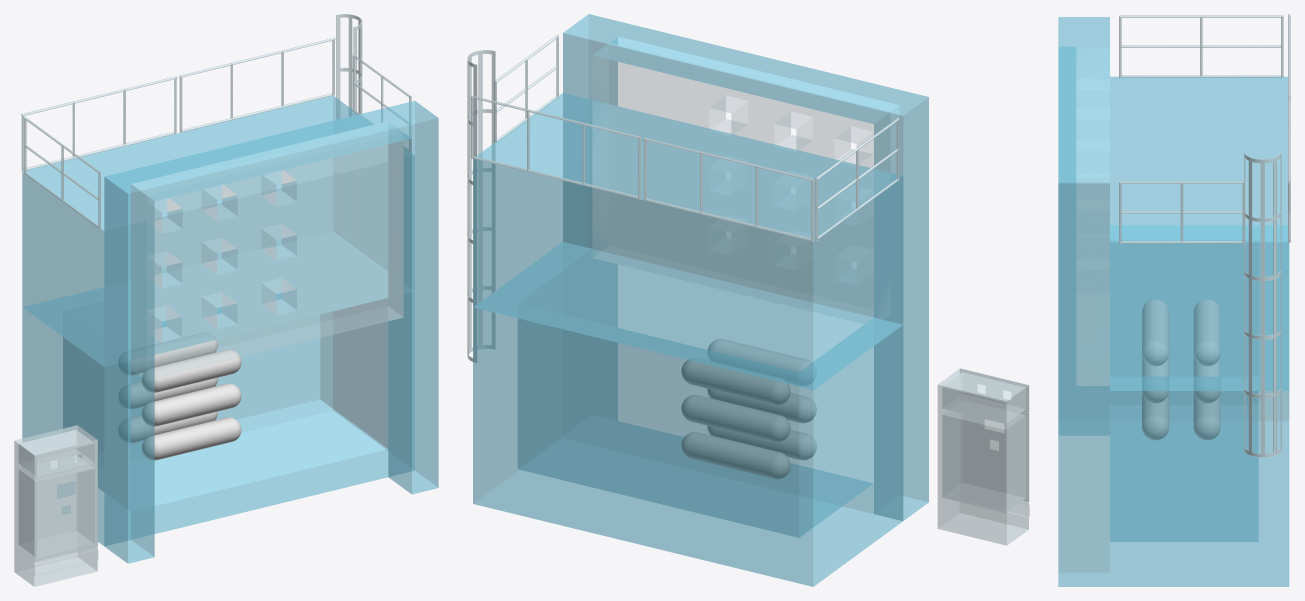
The picture shows the model from 3 angles, left to right: view 1: azimuth 30°, elevation 25°; view 2: azimuth 150°, elevation 25°; view 3: azimuth 270°, elevation 25°; orthographic projection. The views are drawn at different scales.
Visible parts, largest first — view 1: 炉 - 炉体上-1, 炉 - 炉体下-1, 炉 - 炉门框-1, 炉 - 炉门-1, 配电柜 - 配电柜体-1, 配电柜 - 配电柜门中-1, 炉 - 瓶-6, 炉 - 瓶-5, 炉 - 瓶-4, 炉 - 瓶-7, 炉 - 爬梯护栏-1, 炉 - 栏杆2-2 (+6 smaller); view 2: 炉 - 炉体下-1, 炉 - 炉体上-1, 炉 - 炉门-1, 炉 - 炉门框-1, 配电柜 - 配电柜体-1, 炉 - 爬梯护栏-1, 配电柜 - 配电柜门中-1, 炉 - 瓶-9, 炉 - 瓶-8, 炉 - 瓶-7, 炉 - 栏杆2-1, 炉 - 栏杆2-2 (+6 smaller); view 3: 炉 - 炉体下-1, 炉 - 炉体上-1, 炉 - 炉门框-1, 炉 - 炉门-1, 炉 - 爬梯护栏-1, 炉 - 栏杆3-1, 炉 - 栏杆-1, 炉 - 瓶-4, 炉 - 瓶-7, 炉 - 瓶-6, 炉 - 瓶-9, 炉 - 瓶-5 (+2 smaller).
Part boxes in pixels (x1=…): 炉 - 炉体上-1: x1=22, y1=95, x2=414, y2=366; 炉 - 炉体下-1: x1=22, y1=244, x2=414, y2=545; 炉 - 炉门框-1: x1=104, y1=101, x2=438, y2=563; 炉 - 炉门-1: x1=131, y1=122, x2=403, y2=379; 配电柜 - 配电柜体-1: x1=14, y1=425, x2=98, y2=586; 配电柜 - 配电柜门中-1: x1=34, y1=465, x2=97, y2=561; 炉 - 瓶-6: x1=142, y1=417, x2=241, y2=460; 炉 - 瓶-5: x1=142, y1=383, x2=241, y2=426; 炉 - 瓶-4: x1=142, y1=349, x2=241, y2=392; 炉 - 瓶-7: x1=131, y1=332, x2=217, y2=374; 炉 - 爬梯护栏-1: x1=336, y1=14, x2=362, y2=119; 炉 - 栏杆2-2: x1=179, y1=37, x2=335, y2=132; 炉 - 炉体下-1: x1=473, y1=242, x2=903, y2=586; 炉 - 炉体上-1: x1=473, y1=93, x2=903, y2=390; 炉 - 炉门-1: x1=592, y1=44, x2=889, y2=317; 炉 - 炉门框-1: x1=563, y1=14, x2=928, y2=520; 配电柜 - 配电柜体-1: x1=937, y1=368, x2=1029, y2=545; 炉 - 爬梯护栏-1: x1=467, y1=50, x2=495, y2=362; 配电柜 - 配电柜门中-1: x1=963, y1=412, x2=1029, y2=501; 炉 - 瓶-9: x1=681, y1=432, x2=790, y2=478; 炉 - 瓶-8: x1=681, y1=395, x2=790, y2=441; 炉 - 瓶-7: x1=681, y1=360, x2=790, y2=404; 炉 - 栏杆2-1: x1=643, y1=137, x2=814, y2=241; 炉 - 栏杆2-2: x1=470, y1=95, x2=641, y2=199; 炉 - 炉体下-1: x1=1110, y1=225, x2=1289, y2=586; 炉 - 炉体上-1: x1=1110, y1=76, x2=1289, y2=390; 炉 - 炉门框-1: x1=1058, y1=17, x2=1109, y2=586; 炉 - 炉门-1: x1=1077, y1=47, x2=1109, y2=385; 炉 - 爬梯护栏-1: x1=1244, y1=151, x2=1281, y2=457; 炉 - 栏杆3-1: x1=1119, y1=15, x2=1283, y2=78; 炉 - 栏杆-1: x1=1119, y1=181, x2=1244, y2=244; 炉 - 瓶-4: x1=1142, y1=299, x2=1168, y2=365; 炉 - 瓶-7: x1=1194, y1=299, x2=1220, y2=365; 炉 - 瓶-6: x1=1142, y1=394, x2=1168, y2=439; 炉 - 瓶-9: x1=1194, y1=394, x2=1220, y2=439; 炉 - 瓶-5: x1=1142, y1=357, x2=1168, y2=402.
Size of the model in its own units: 7.8 by 7.13 by 3.44.
